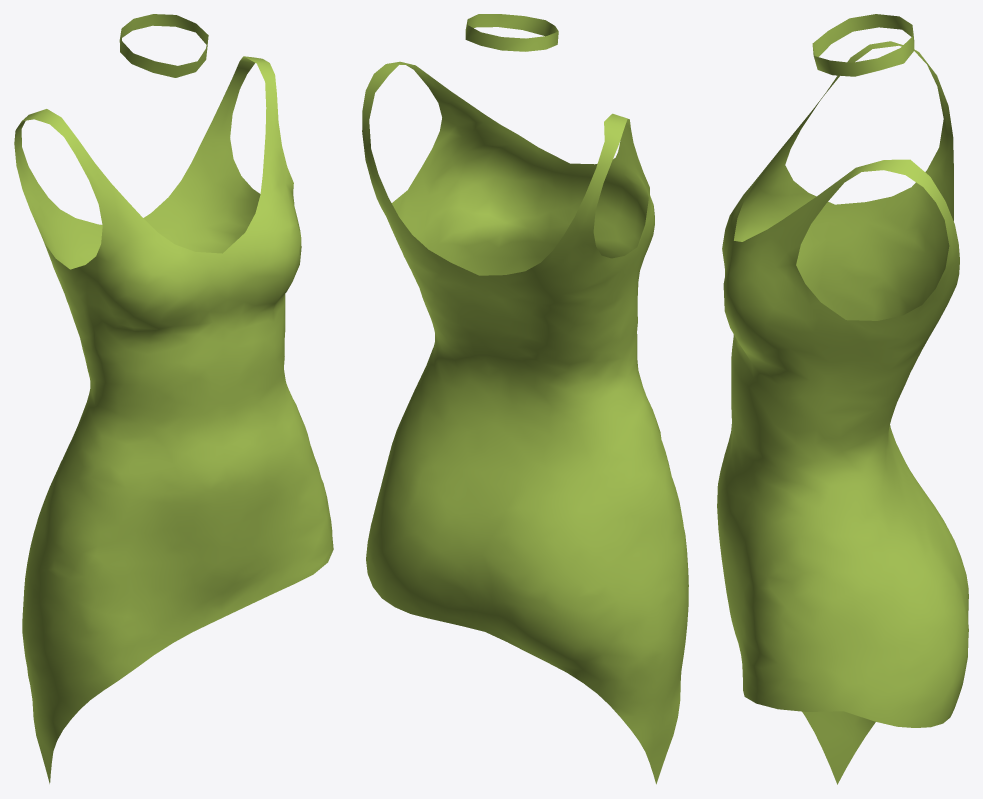
Rendered from dress.glb.
The picture shows the model from 3 angles, left to right: view 1: azimuth 30°, elevation 25°; view 2: azimuth 150°, elevation 25°; view 3: azimuth 270°, elevation 25°; orthographic projection. The views are drawn at different scales.
Parts seen in each view (by area): view 1: 01_FABRIC 1_FRONT_1309_0; view 2: 01_FABRIC 1_FRONT_1309_0; view 3: 01_FABRIC 1_FRONT_1309_0.
Part boxes in pixels (x1=…): 01_FABRIC 1_FRONT_1309_0: x1=14, y1=14, x2=333, y2=783; 01_FABRIC 1_FRONT_1309_0: x1=362, y1=14, x2=688, y2=784; 01_FABRIC 1_FRONT_1309_0: x1=717, y1=14, x2=968, y2=784.
Bounding box in the file's own units: 0.3667 × 0.8859 × 0.245.
